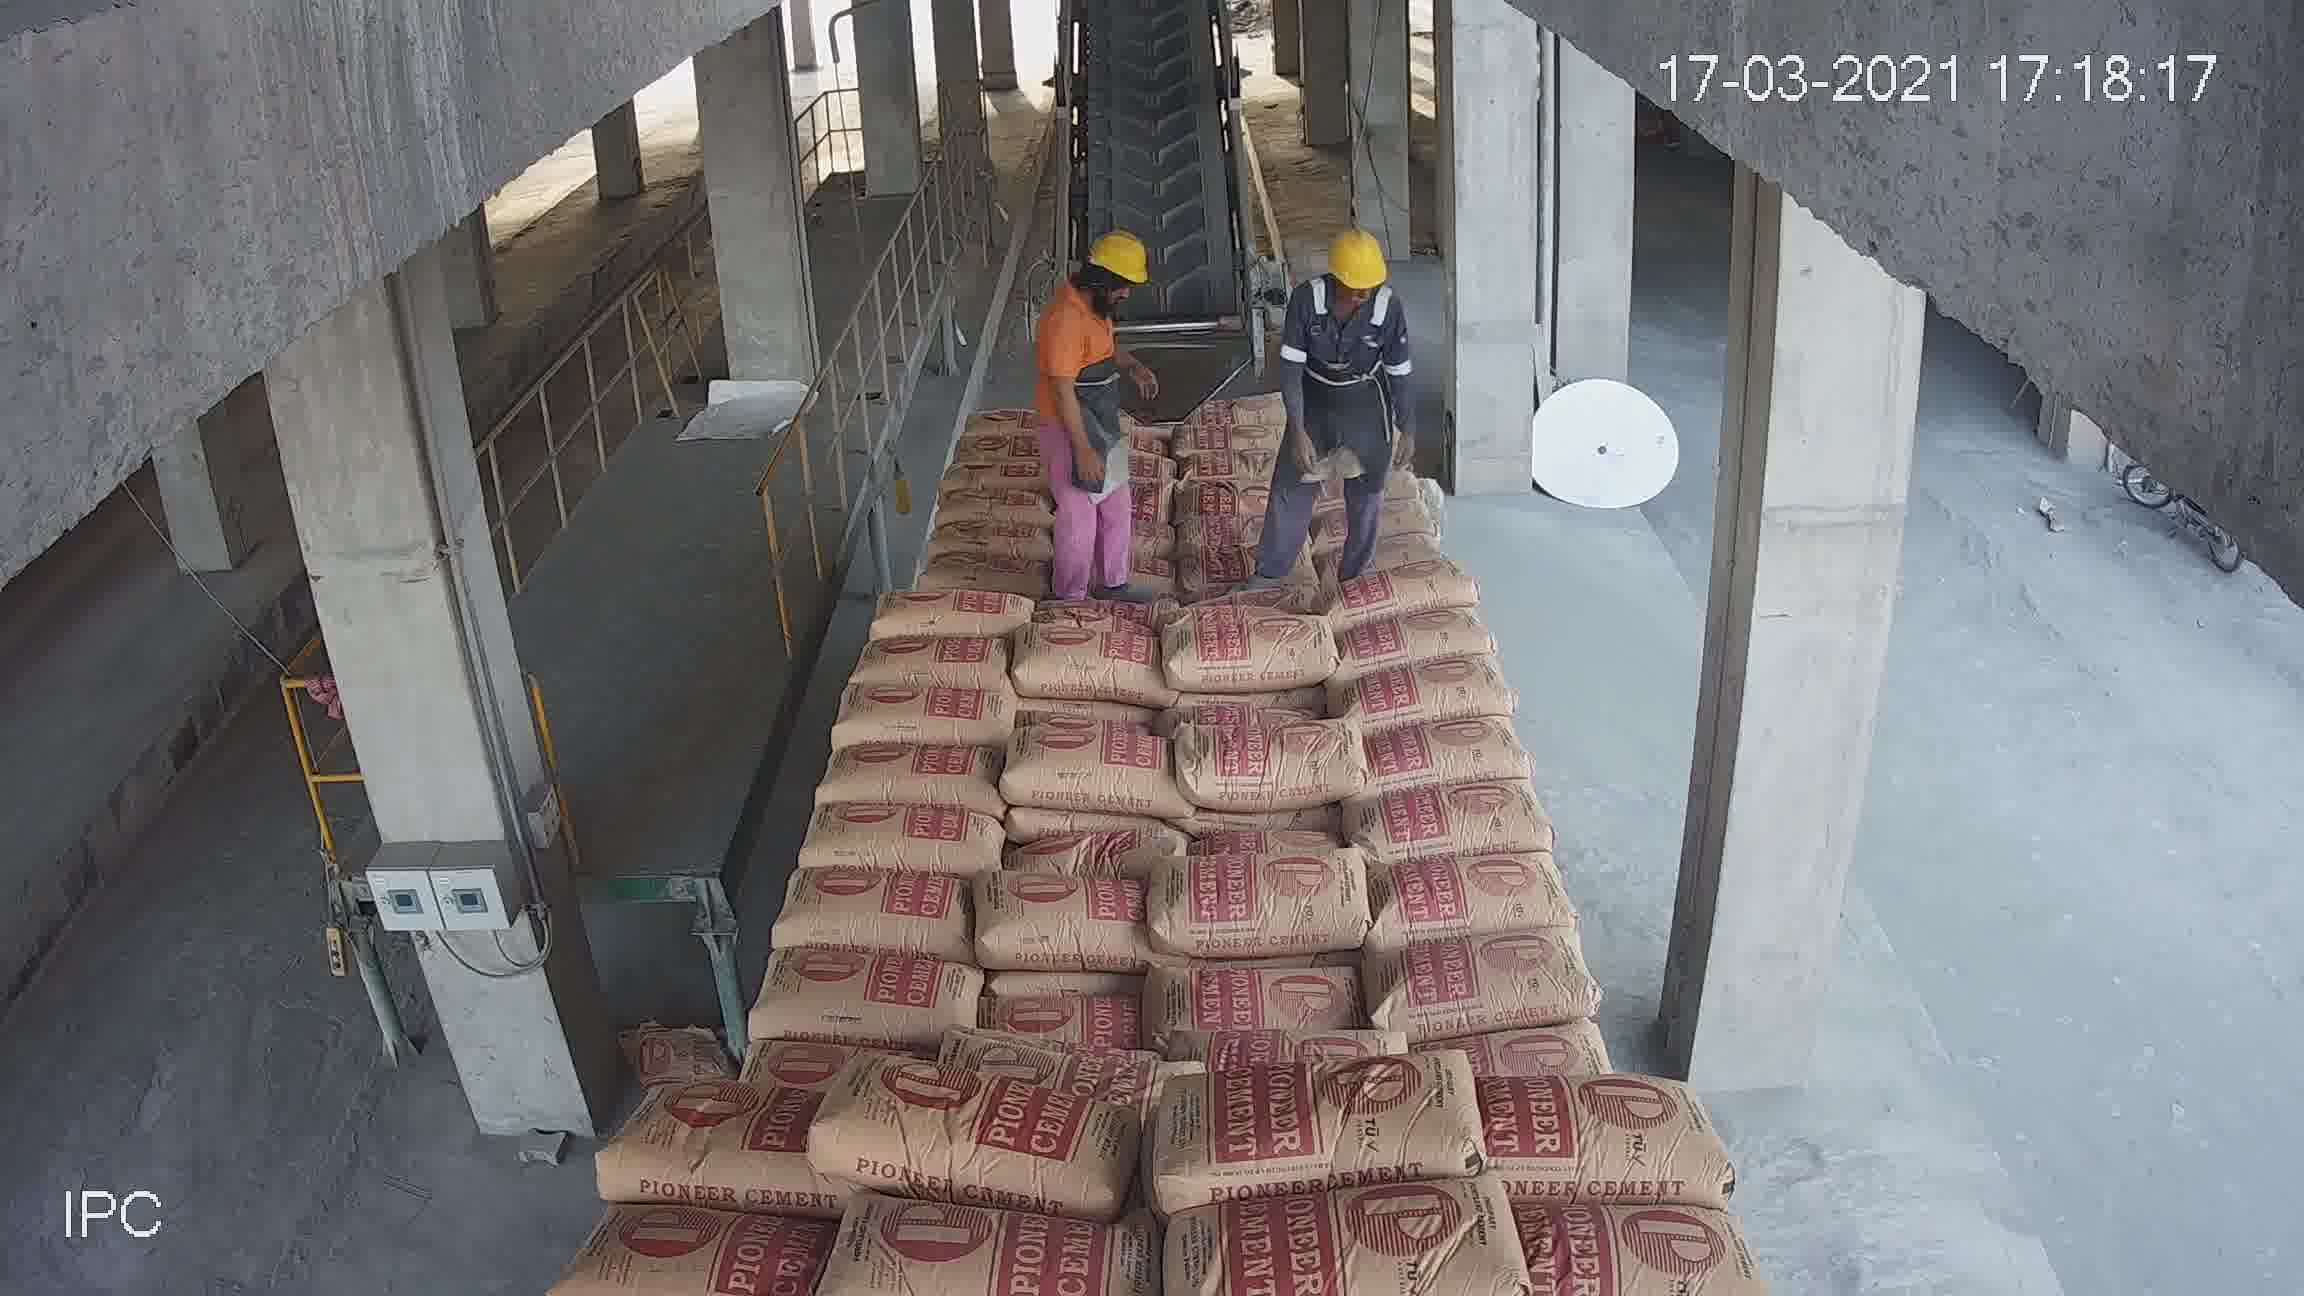bag_h: (1143, 1051, 1497, 1198), (818, 1060, 1138, 1206), (1480, 1074, 1720, 1198), (584, 1079, 832, 1196), (1141, 834, 1370, 961), (1351, 930, 1598, 1048), (747, 942, 984, 1040), (1177, 714, 1374, 818), (953, 1014, 1161, 1109), (772, 864, 972, 961), (1367, 848, 1563, 943), (968, 869, 1139, 975), (779, 805, 1006, 881), (1141, 953, 1343, 1036), (1157, 601, 1331, 696), (1364, 707, 1535, 798), (1358, 785, 1548, 866), (1006, 723, 1174, 812), (823, 680, 1022, 752), (1337, 655, 1522, 729), (1312, 541, 1481, 622), (836, 616, 1006, 693), (986, 976, 1139, 1057), (1329, 608, 1499, 679), (809, 747, 1002, 809), (869, 570, 1033, 639), (1005, 617, 1147, 693), (1024, 813, 1188, 878), (916, 532, 1036, 587), (923, 435, 1041, 486), (924, 503, 1043, 551), (930, 473, 1038, 524), (1185, 446, 1283, 500), (1184, 415, 1271, 468), (949, 418, 1041, 460), (943, 400, 1029, 438)
belt: (1057, 52, 1252, 396)
